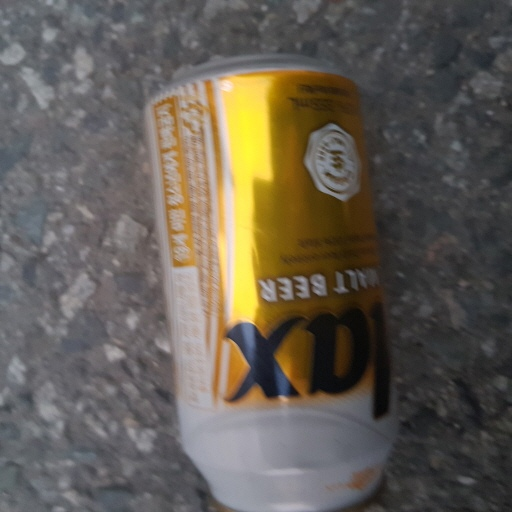Metal_0: (141, 55, 400, 512)
